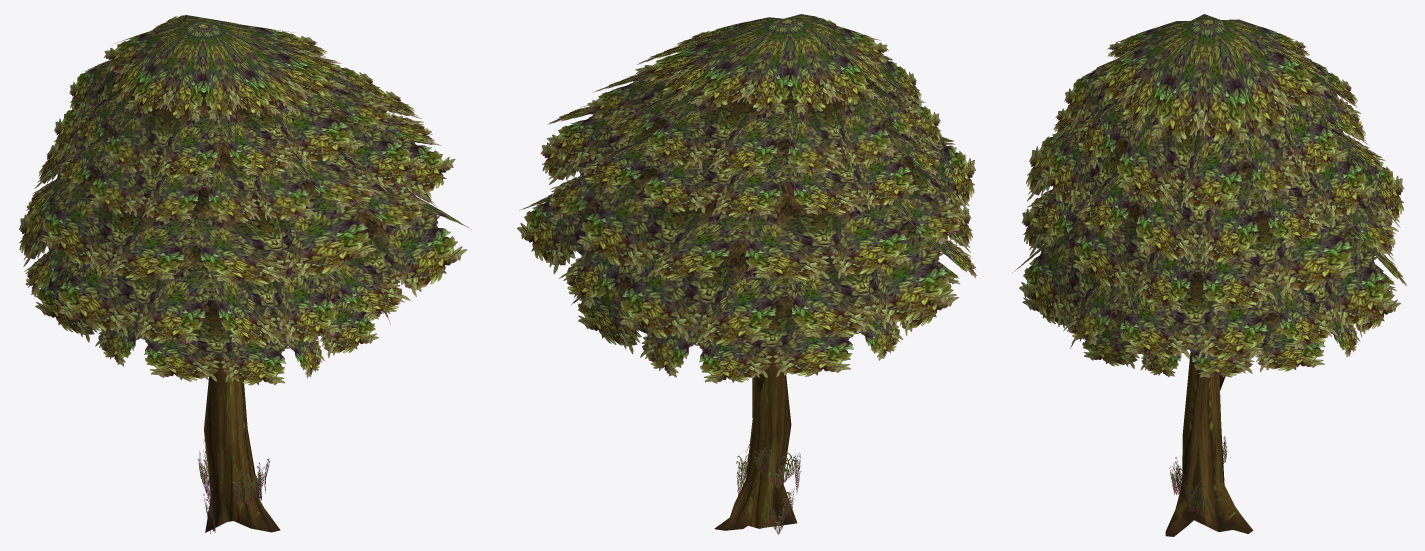
The model's file is n_SEatree03_01.glb.
3 views of the same model, side by side, from view 1: azimuth 30°, elevation 25°; view 2: azimuth 150°, elevation 25°; view 3: azimuth 270°, elevation 25° (orthographic). The views are drawn at different scales.
Visible parts, largest first — view 1: n_SEatree03_01; view 2: n_SEatree03_01; view 3: n_SEatree03_01.
Part boxes in pixels (bbox=[...]): n_SEatree03_01: bbox=[19, 15, 471, 533]; n_SEatree03_01: bbox=[517, 14, 976, 534]; n_SEatree03_01: bbox=[1012, 14, 1406, 536].
Size of the model in its own units: 4.31 by 4.98 by 3.62.
3 materials, 3 textured.
